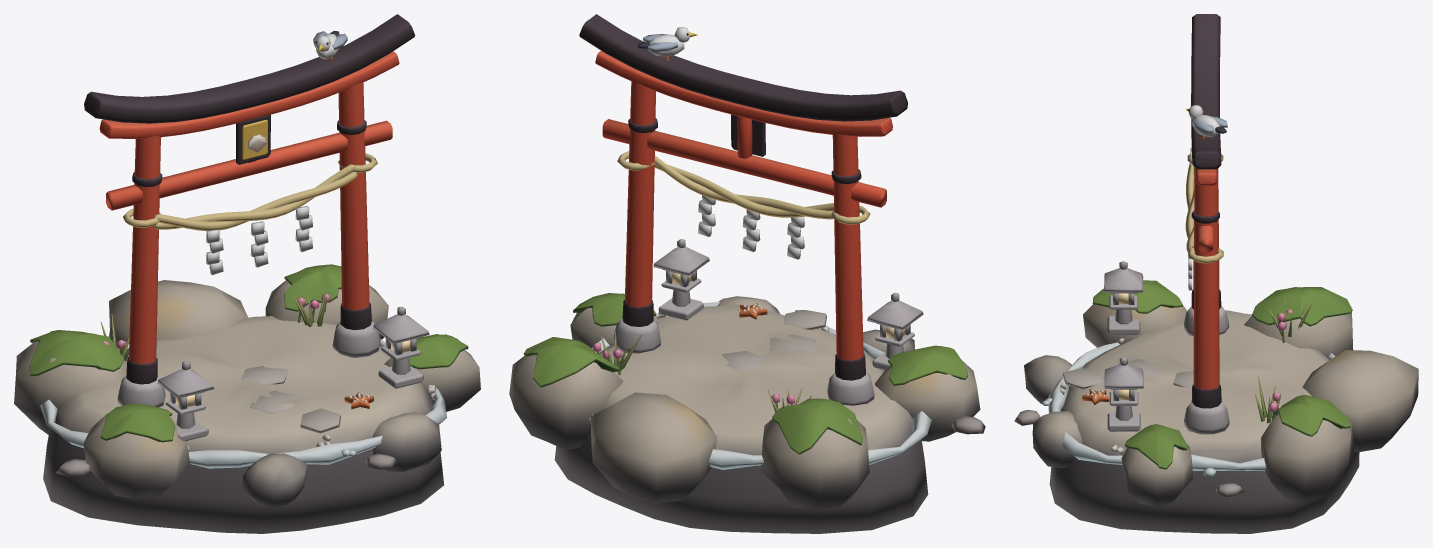
The model's file is rg-tidepool-seaTorii.glb.
3 views of the same model, side by side, from view 1: azimuth 30°, elevation 25°; view 2: azimuth 150°, elevation 25°; view 3: azimuth 270°, elevation 25° (orthographic). The views are drawn at different scales.
Parts seen in each view (by area): view 1: rg-tidepool-seaTorii; view 2: rg-tidepool-seaTorii; view 3: rg-tidepool-seaTorii.
Boxes of the visible parts, <box> form: rg-tidepool-seaTorii: <box>14,14,480,533</box>; rg-tidepool-seaTorii: <box>509,14,985,533</box>; rg-tidepool-seaTorii: <box>1014,14,1418,533</box>.
Bounding box in the file's own units: 4.14 × 3.89 × 3.67.
